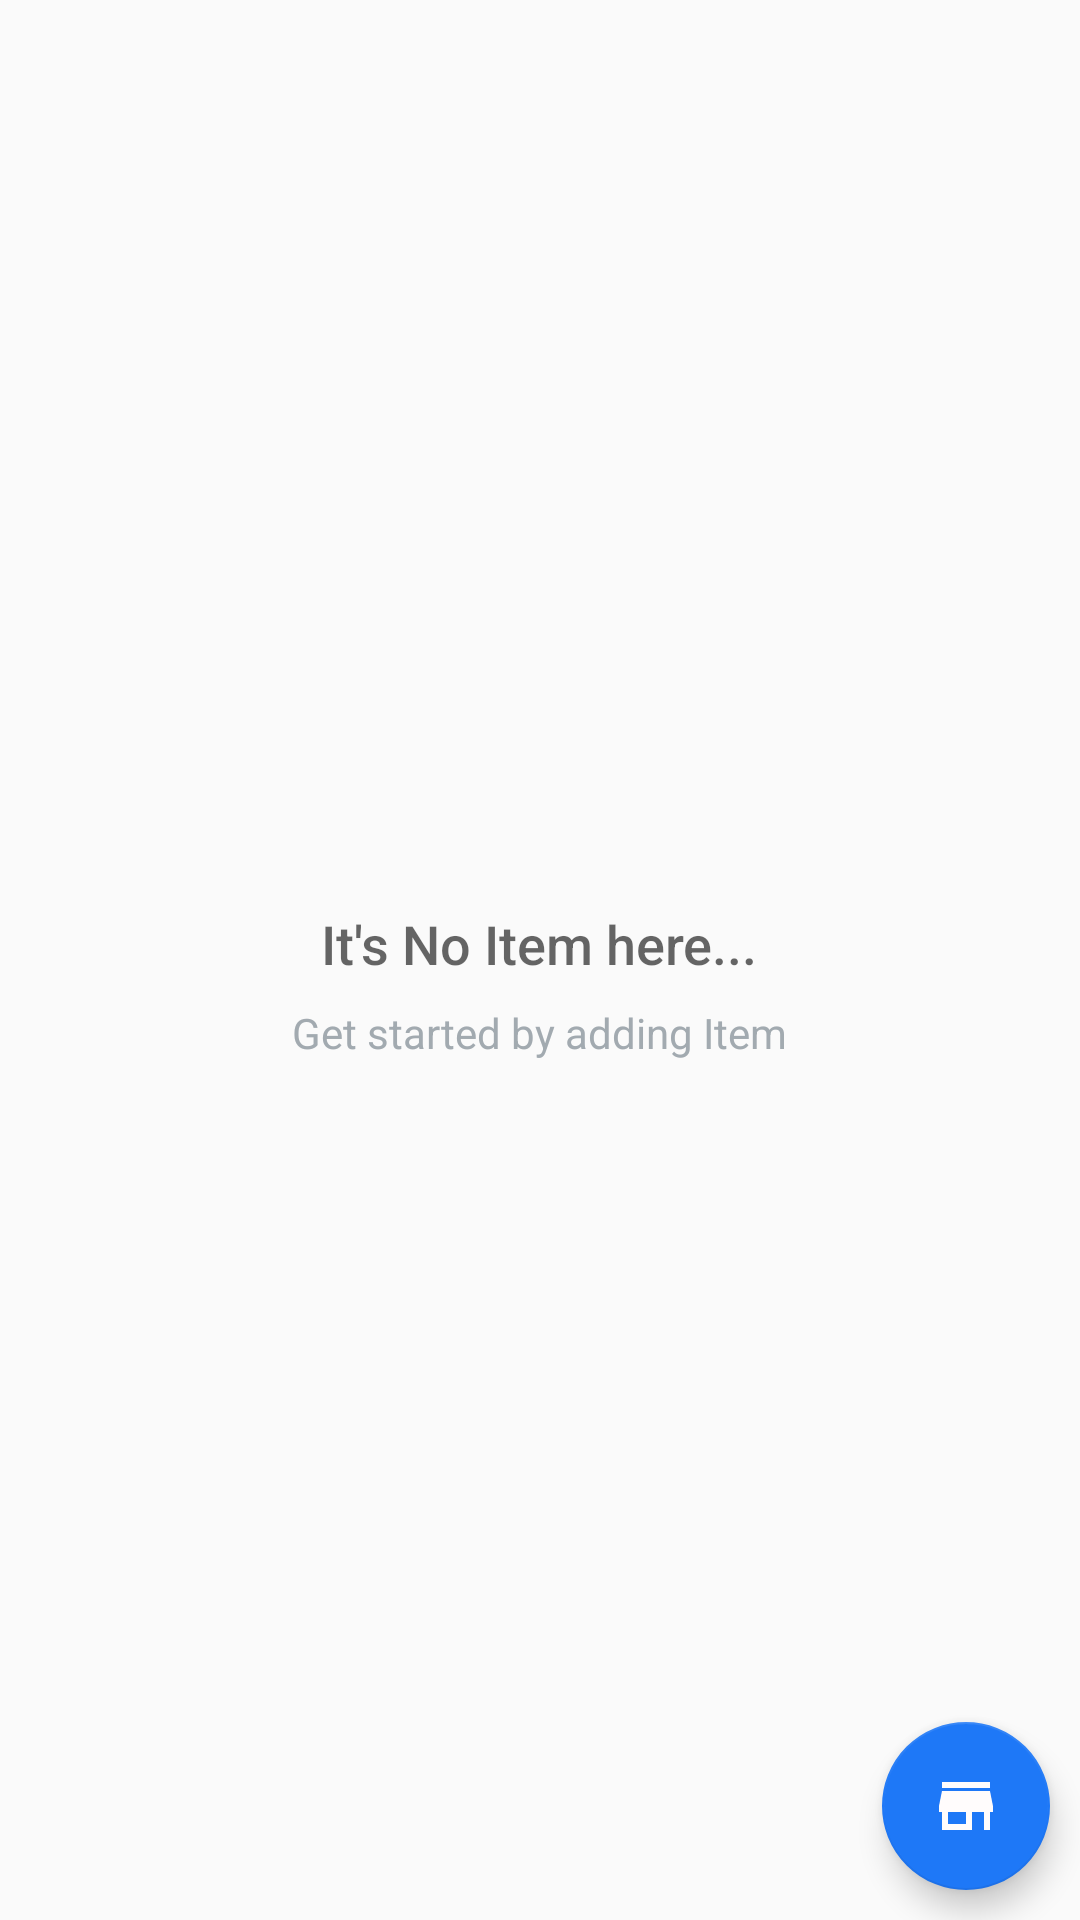

Icon click points for this 1080x1920 phone screenshot, format (x,y):
store: (966,1806)
